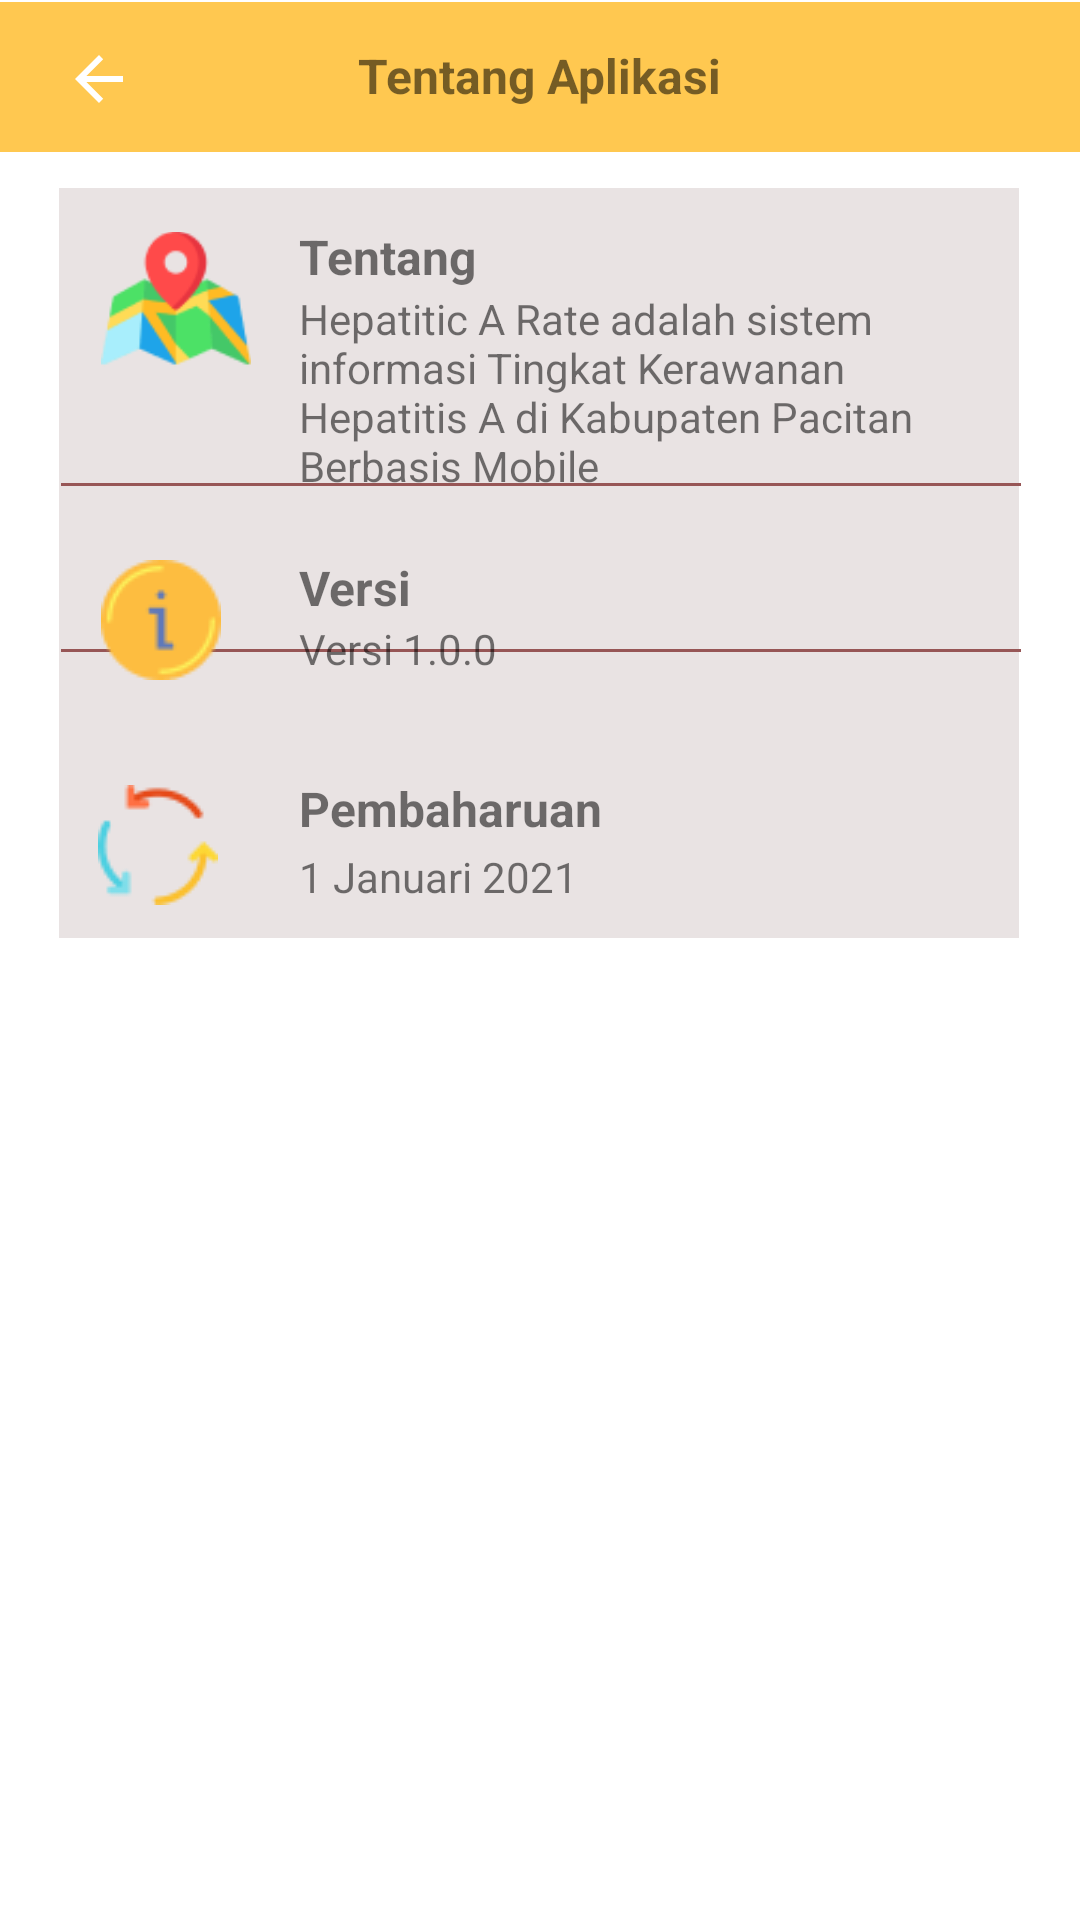

Locate icon controls on the screen. Image size 1080*1920, boxes as (x1, y1, x2, y2).
pembaruan: (98, 785, 218, 905)
peta: (101, 232, 251, 365)
